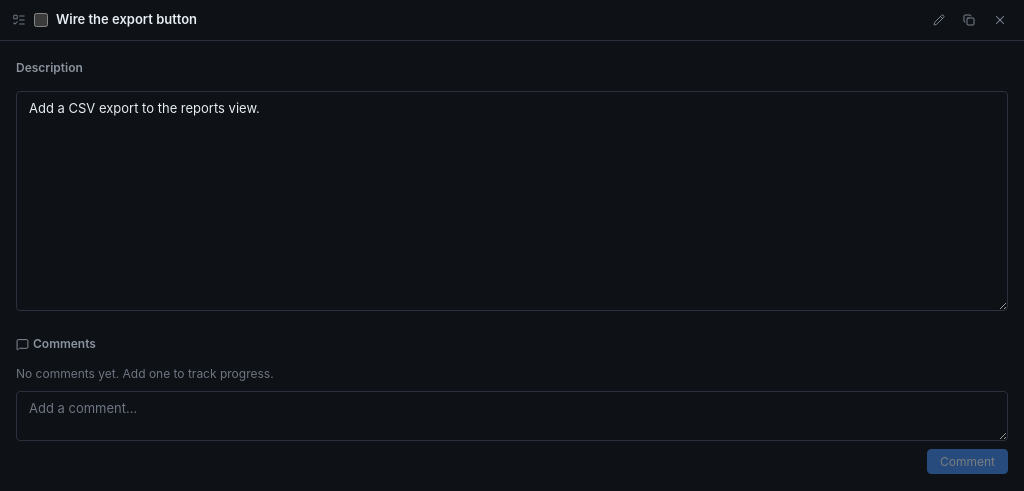
Scenario: TodoDetailPane › cancels a title edit on Escape without saving
The image size is (1024, 491).
Click the button named "Edit title" at (939, 20), box top-left (928, 9), bottom-right (950, 31)
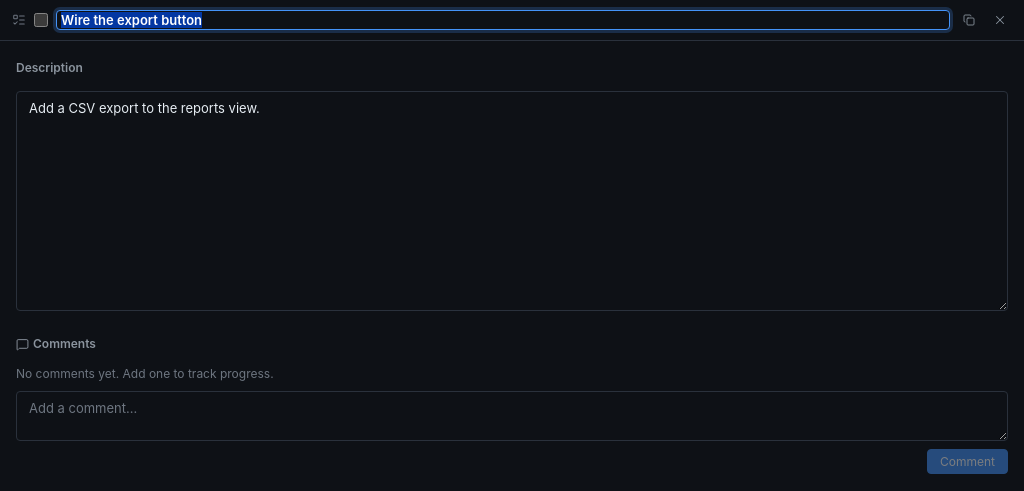
Replace the text in the field named "Edit title" with "Nope" at (503, 20), box top-left (56, 10), bottom-right (950, 30)
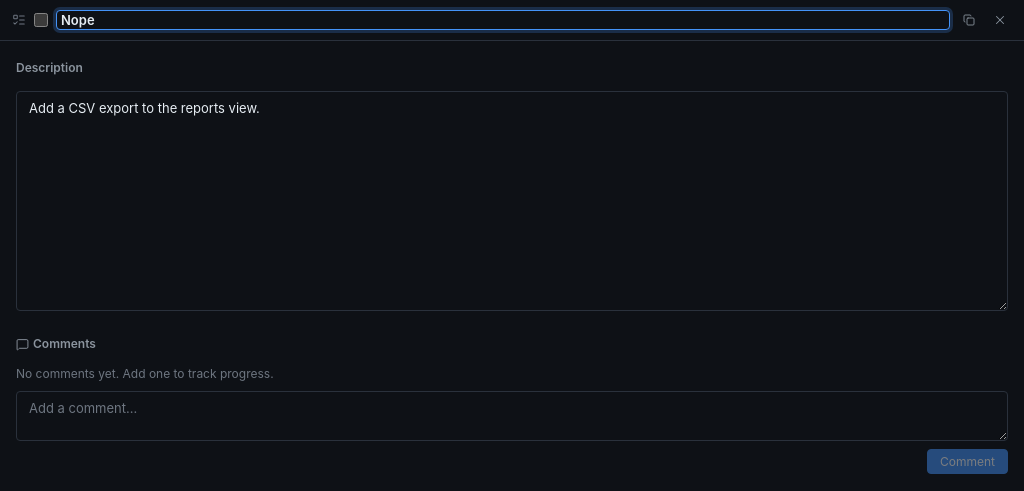
Press Escape in the field named "Edit title", box top-left (56, 10), bottom-right (950, 30)
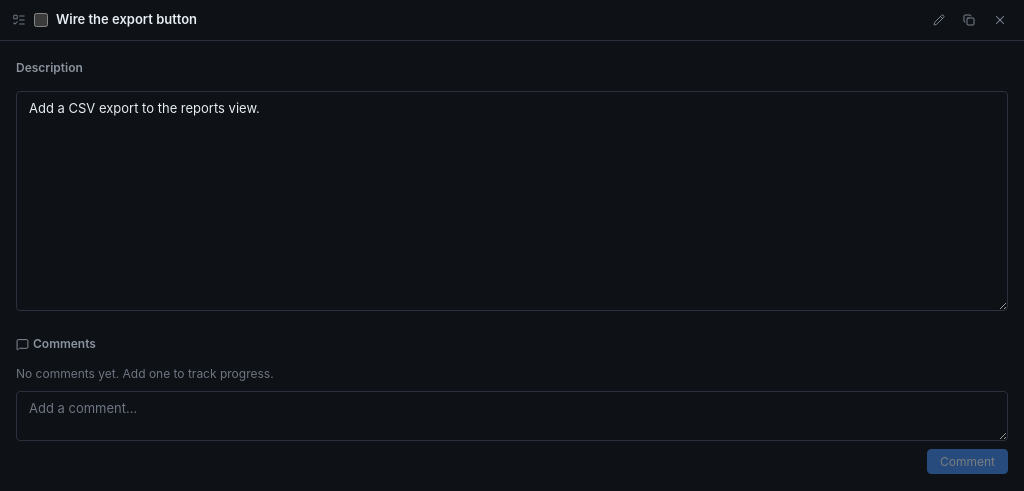
Check: the text "Wire the export button" is shown, box top-left (56, 11), bottom-right (197, 27)
